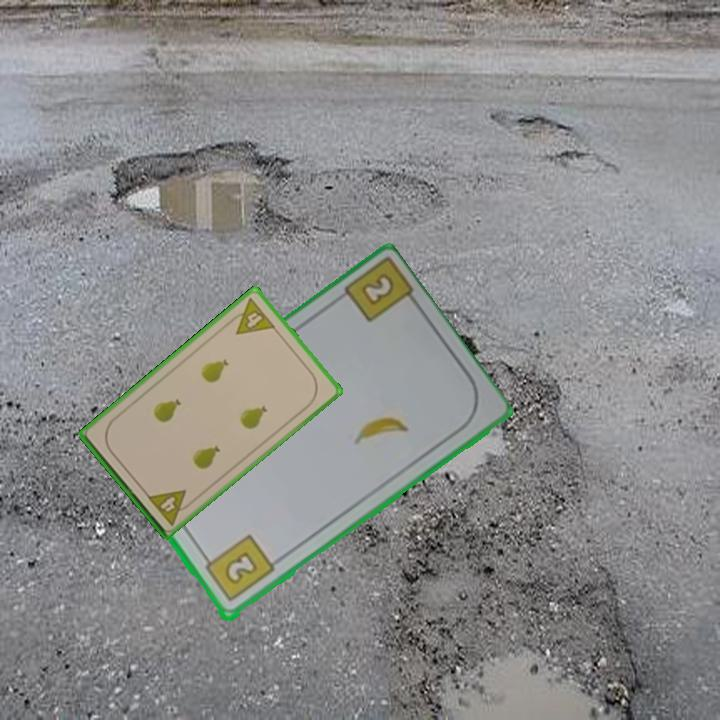2b: (199, 531, 277, 605), (361, 273, 394, 305)
4p: (143, 484, 196, 528), (224, 294, 278, 337)
